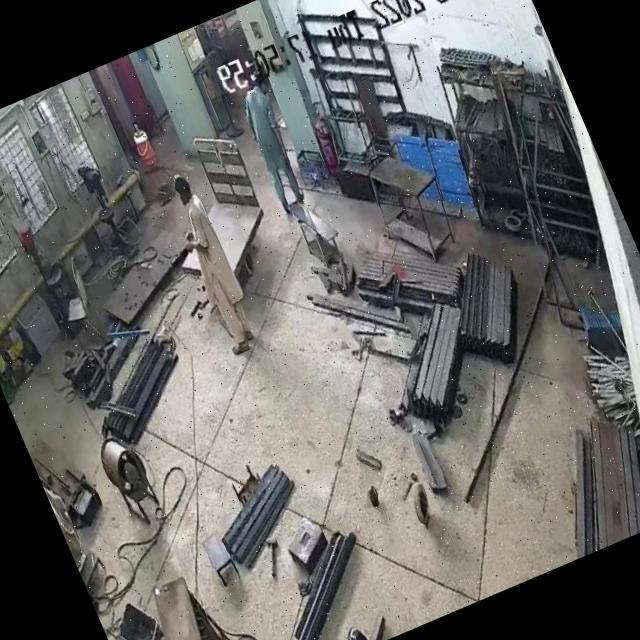person: (156, 166, 262, 356), (226, 68, 316, 214), (32, 456, 94, 583)
